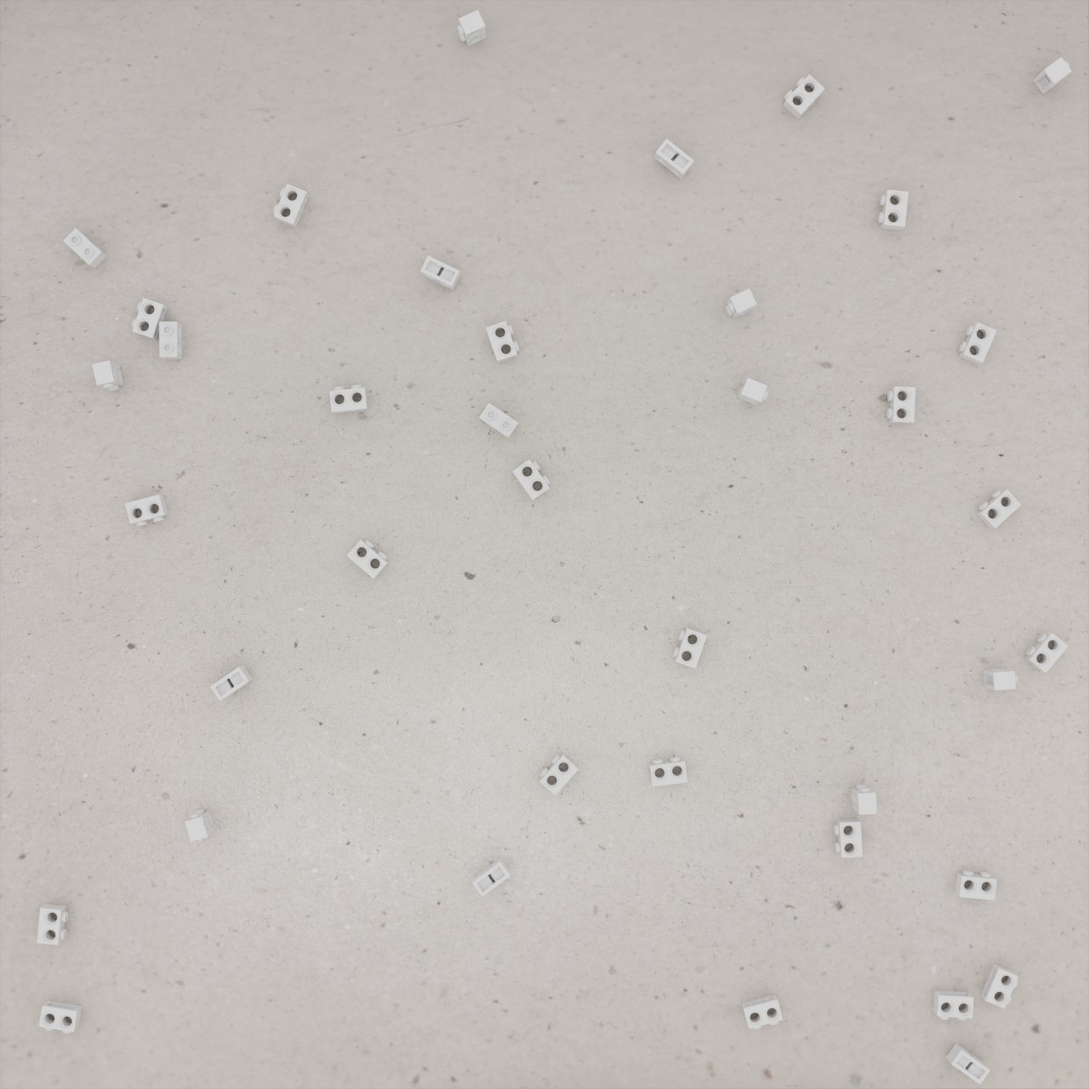lego: (783, 74, 825, 119), (946, 1043, 991, 1085), (1024, 632, 1069, 673), (63, 228, 107, 269), (976, 489, 1021, 529), (980, 963, 1018, 1009), (539, 753, 579, 796), (347, 539, 389, 579), (654, 138, 694, 179), (512, 459, 551, 501), (959, 322, 997, 365), (273, 184, 309, 228), (472, 857, 511, 897), (210, 665, 253, 701), (132, 298, 168, 340), (741, 994, 783, 1030), (39, 1000, 82, 1034), (125, 494, 169, 527), (1033, 57, 1072, 94), (479, 403, 519, 439), (420, 255, 461, 290), (486, 321, 520, 363), (673, 627, 707, 669), (933, 990, 974, 1021), (37, 904, 68, 945), (955, 870, 997, 900), (878, 190, 909, 230), (649, 757, 688, 787), (329, 385, 369, 414), (834, 818, 863, 858), (887, 386, 916, 424), (457, 10, 487, 46), (185, 809, 216, 842), (92, 360, 124, 391), (725, 288, 757, 319), (159, 322, 182, 360), (737, 378, 769, 405), (851, 784, 877, 815), (983, 668, 1018, 691)
